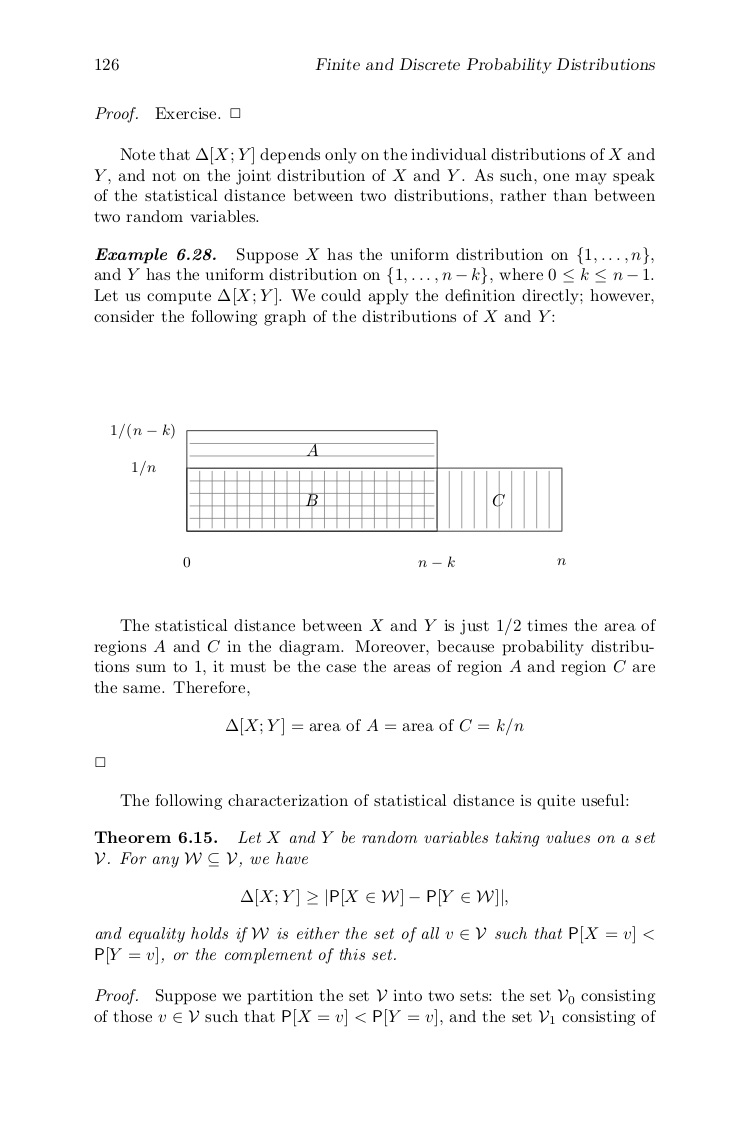figure: (111, 423, 565, 567)
formula: (241, 888, 507, 907), (226, 718, 523, 735)
